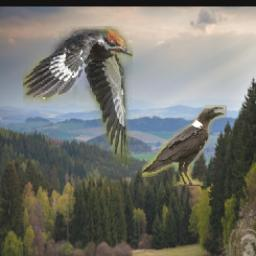Crow: (141, 106, 226, 187)
Woodpecker: (22, 26, 132, 164)
